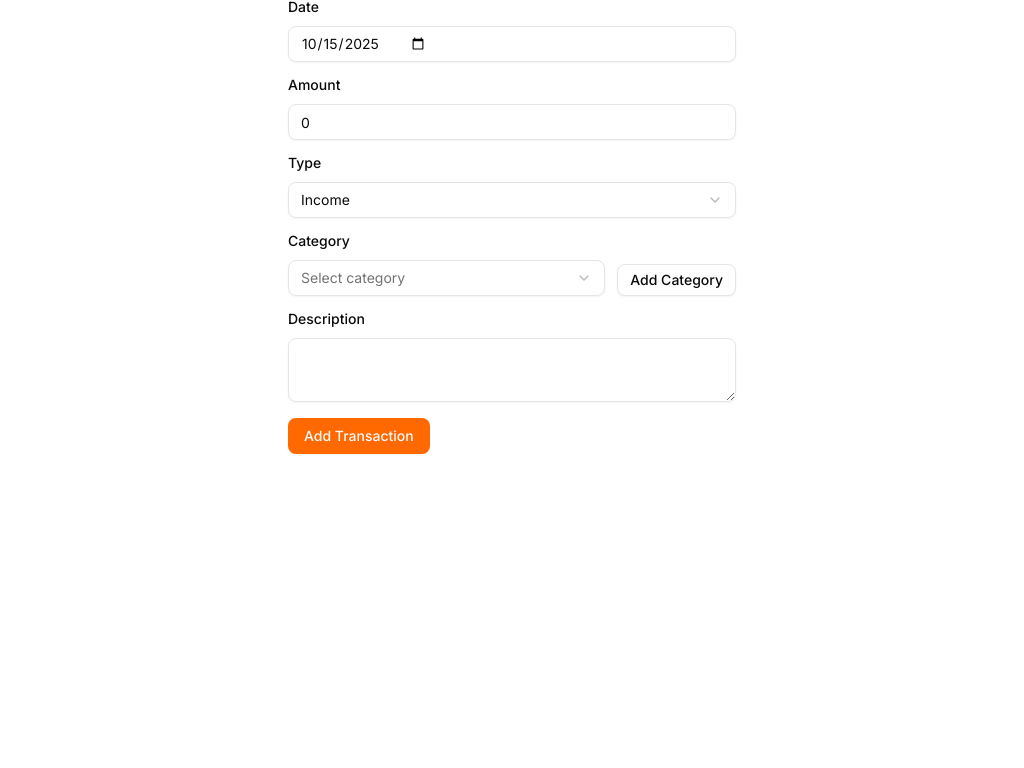
Scenario: CreateTransactionForm › should close category dialog when cancel is clicked
Click the button "Add Category" at (677, 280), box [617,264,736,296]
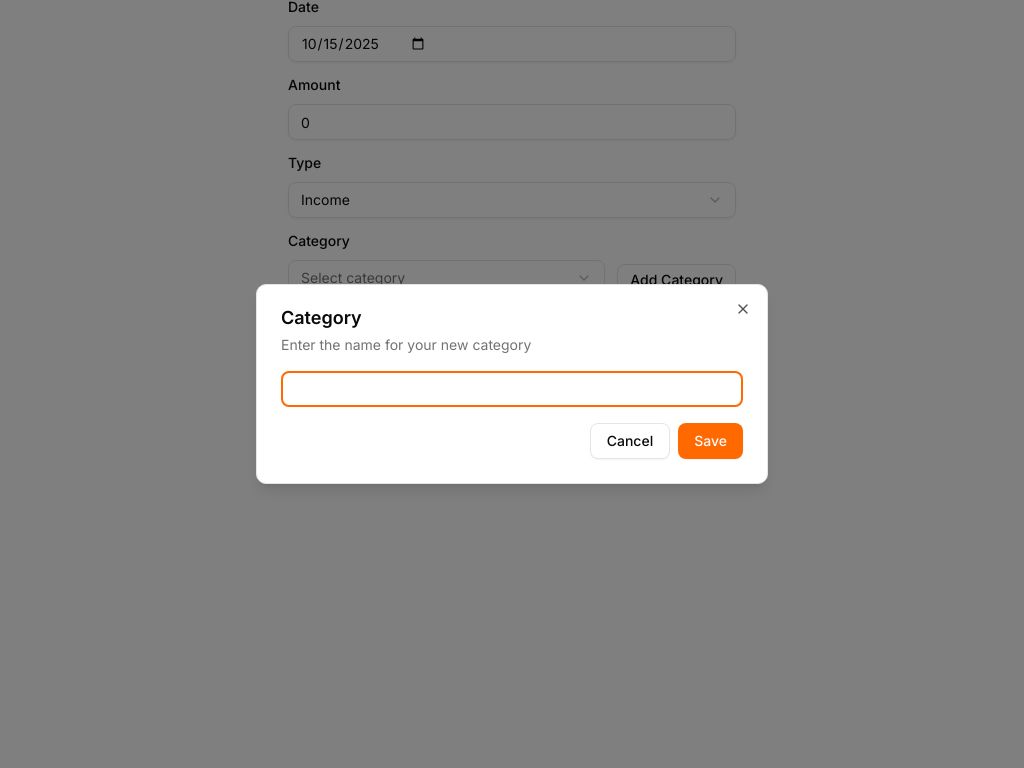
Expected: the dialog is shown, [256,284,768,484]
Click the button "Cancel" at (630, 441), box [590,423,670,459]
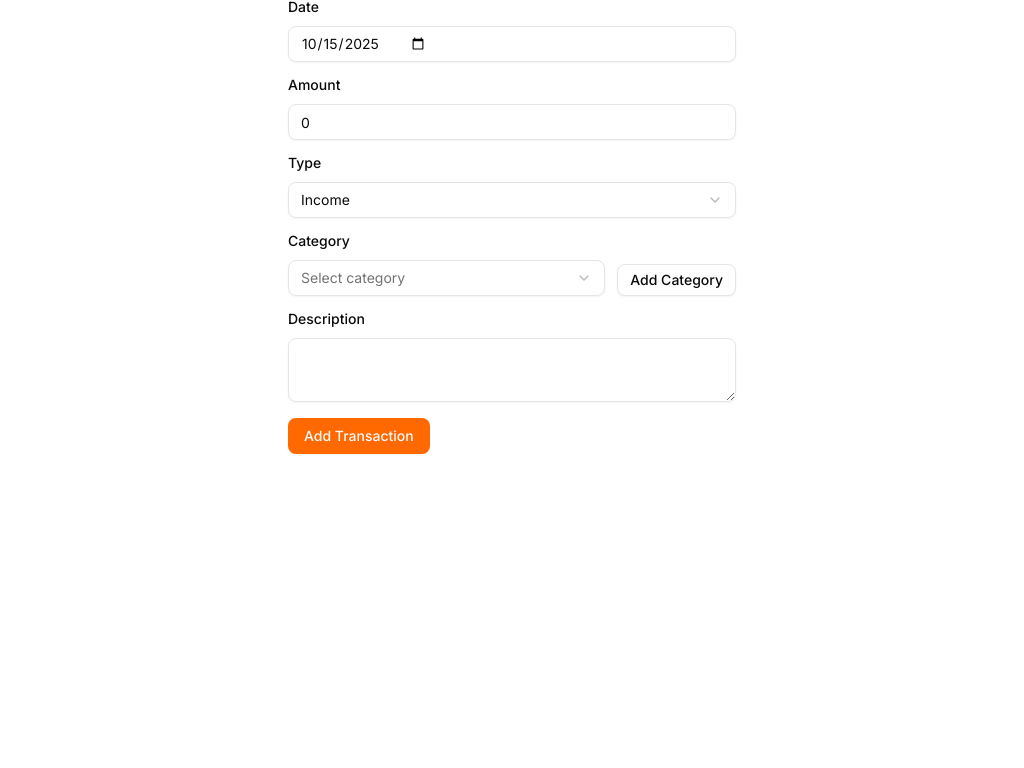
Expected: the dialog is gone
